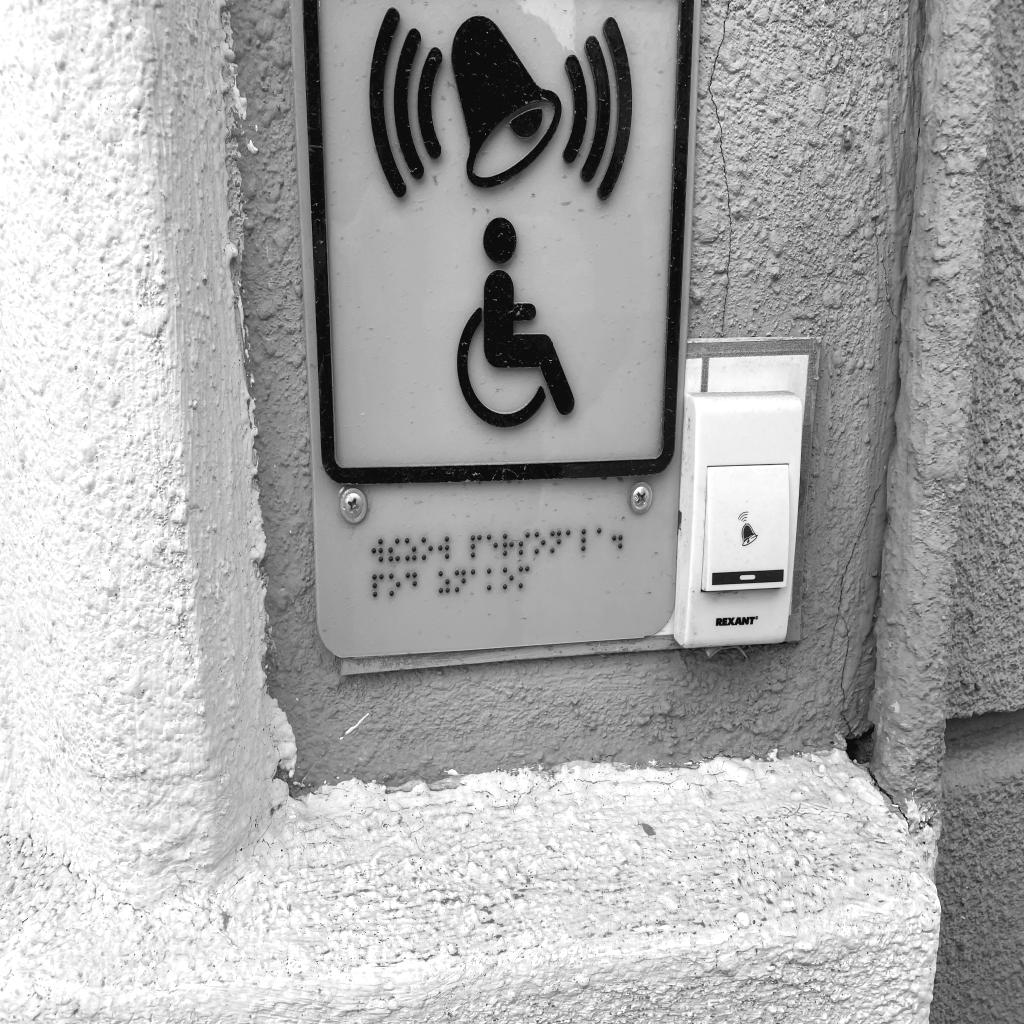_n: (550, 530, 562, 554), (454, 569, 466, 593)
a: (566, 529, 578, 553), (596, 527, 608, 551), (471, 568, 483, 592)
d: (405, 571, 417, 597)
e: (487, 533, 499, 558)
ii: (388, 538, 400, 563)
k: (486, 568, 498, 592)
l: (581, 528, 593, 552)
m: (518, 565, 530, 589)
o: (388, 572, 401, 597), (421, 536, 433, 561), (534, 531, 546, 555), (503, 567, 514, 590)
p: (471, 534, 483, 559), (372, 573, 384, 598)
r: (503, 533, 515, 557)
s: (519, 531, 531, 556)
tochka: (612, 527, 623, 549)
v: (437, 535, 450, 560), (371, 538, 384, 562)
z: (404, 537, 417, 561), (438, 570, 450, 594)
